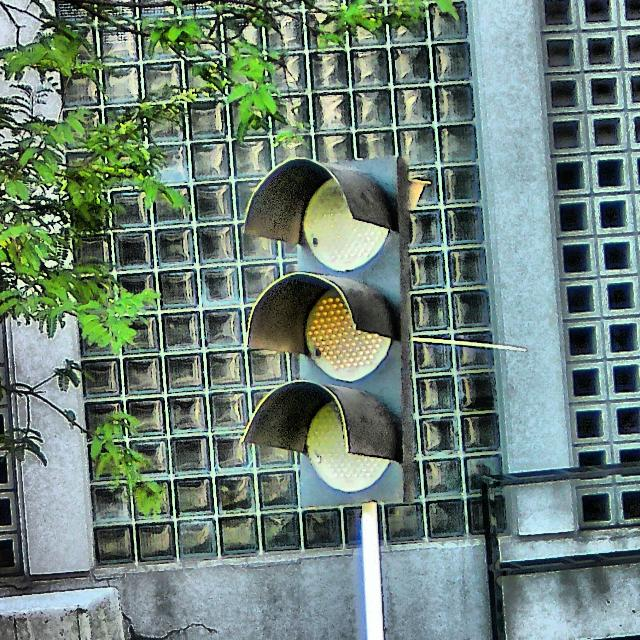yellow: (246, 155, 414, 499)
